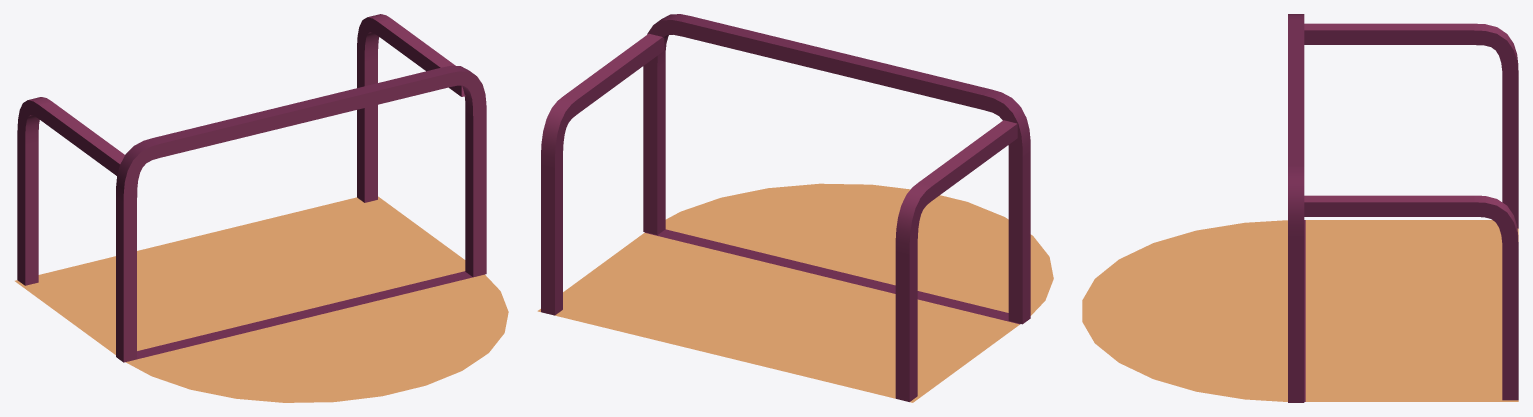
Rendered from goal_red.fbx.
The picture shows the model from 3 angles, left to right: view 1: azimuth 30°, elevation 25°; view 2: azimuth 150°, elevation 25°; view 3: azimuth 270°, elevation 25°; orthographic projection. The views are drawn at different scales.
Visible parts, largest first — view 1: goal_red; view 2: goal_red; view 3: goal_red.
Boxes of the visible parts, x1,y1,x2,y2 form: goal_red: [15, 14, 508, 402]; goal_red: [537, 14, 1053, 402]; goal_red: [1082, 14, 1518, 402].
Bounding box in the file's own units: 10.4 × 5.75 × 10.43.
